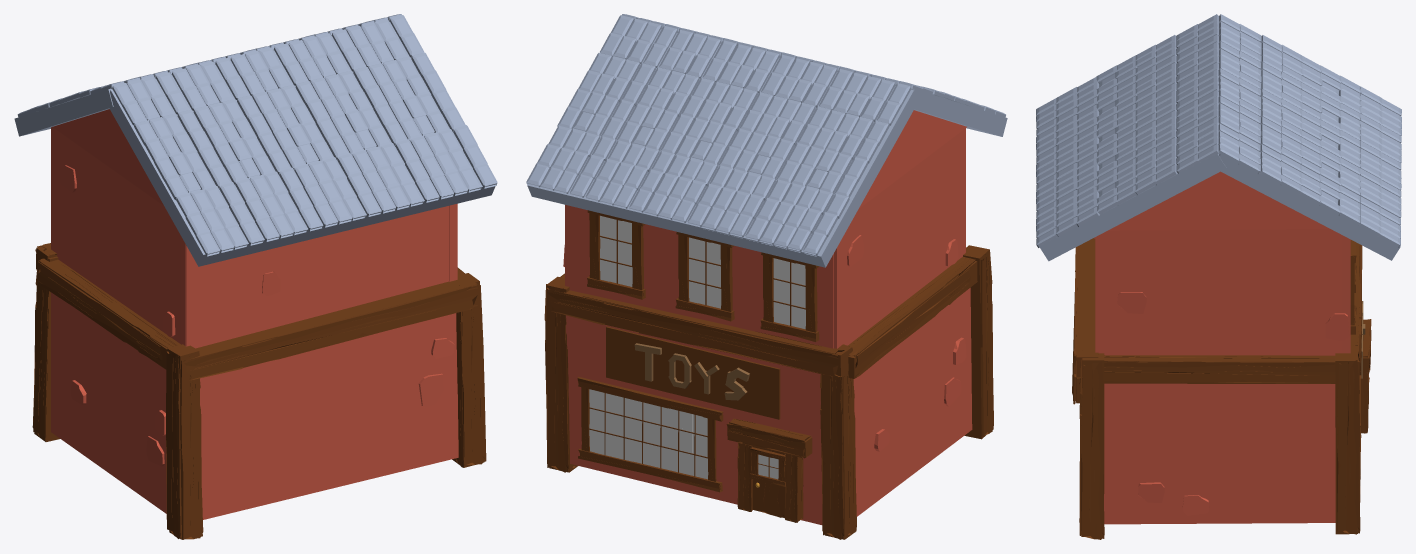
Rendered from Shop3.fbx.
3 views of the same model, side by side, from view 1: azimuth 30°, elevation 25°; view 2: azimuth 150°, elevation 25°; view 3: azimuth 270°, elevation 25° (orthographic). The views are drawn at different scales.
Parts seen in each view (by area): view 1: Cube.3853, Cube.3857, Cube.3858, Cube.3854, Cube.3959, Cube.3850, Cube.3967, Cube.3962, Cube.3968, Cube.3958, Cube.3966, Cube.3956 (+7 smaller); view 2: Cube.3854, Cube.3858, Cube.3852, Cube.3856, Cube.3916, Cube.3851, Cube.3939, Cube.3947, Cube.3943, Cube.3968, Cube.3956, Cube.3966 (+38 smaller); view 3: Cube.3855, Cube.3859, Cube.3969, Cube.3953, Cube.3964, Cube.3949, Cube.3850, Cube.3851, Cube.3958, Cube.3951, Cube.3856, Cube.3946 (+7 smaller).
Part boxes in pixels (x1=…): Cube.3853: x1=200, y1=313, x2=458, y2=519; Cube.3857: x1=181, y1=206, x2=448, y2=348; Cube.3858: x1=51, y1=127, x2=194, y2=347; Cube.3854: x1=51, y1=292, x2=166, y2=513; Cube.3959: x1=184, y1=285, x2=478, y2=379; Cube.3850: x1=109, y1=22, x2=496, y2=266; Cube.3967: x1=180, y1=353, x2=203, y2=539; Cube.3962: x1=461, y1=281, x2=485, y2=465; Cube.3968: x1=52, y1=109, x2=163, y2=205; Cube.3958: x1=188, y1=276, x2=478, y2=377; Cube.3966: x1=166, y1=351, x2=181, y2=539; Cube.3956: x1=37, y1=263, x2=162, y2=362; Cube.3854: x1=853, y1=288, x2=971, y2=516; Cube.3858: x1=834, y1=128, x2=965, y2=348; Cube.3852: x1=566, y1=315, x2=822, y2=524; Cube.3856: x1=565, y1=205, x2=833, y2=348; Cube.3916: x1=606, y1=326, x2=780, y2=419; Cube.3851: x1=527, y1=29, x2=918, y2=267; Cube.3939: x1=547, y1=292, x2=839, y2=376; Cube.3947: x1=545, y1=287, x2=568, y2=472; Cube.3943: x1=821, y1=374, x2=844, y2=539; Cube.3968: x1=859, y1=110, x2=966, y2=208; Cube.3956: x1=855, y1=269, x2=970, y2=378; Cube.3966: x1=980, y1=249, x2=993, y2=436; Cube.3855: x1=1104, y1=383, x2=1335, y2=524; Cube.3859: x1=1095, y1=229, x2=1341, y2=355; Cube.3969: x1=1108, y1=171, x2=1330, y2=230; Cube.3953: x1=1104, y1=361, x2=1335, y2=383; Cube.3964: x1=1081, y1=361, x2=1104, y2=539; Cube.3949: x1=1337, y1=360, x2=1360, y2=534; Cube.3850: x1=1039, y1=153, x2=1226, y2=261; Cube.3851: x1=1219, y1=154, x2=1400, y2=260; Cube.3958: x1=1076, y1=238, x2=1098, y2=377; Cube.3951: x1=1104, y1=355, x2=1335, y2=362; Cube.3856: x1=1341, y1=235, x2=1350, y2=353; Cube.3946: x1=1335, y1=351, x2=1357, y2=534.
Bounding box in the file's own units: 1441 × 1770 × 1526.
